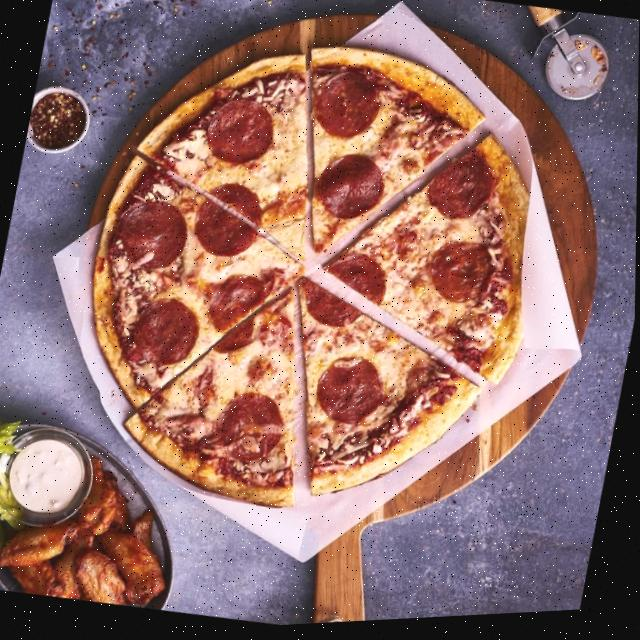pepperoni: (293, 241, 393, 350), (208, 381, 294, 475), (105, 192, 193, 283), (120, 288, 207, 377), (193, 93, 286, 176), (301, 64, 388, 150), (306, 351, 391, 439), (187, 178, 267, 264), (308, 150, 389, 230), (422, 148, 500, 231), (424, 235, 499, 314), (203, 275, 267, 363)
pizza: (54, 0, 571, 556)
